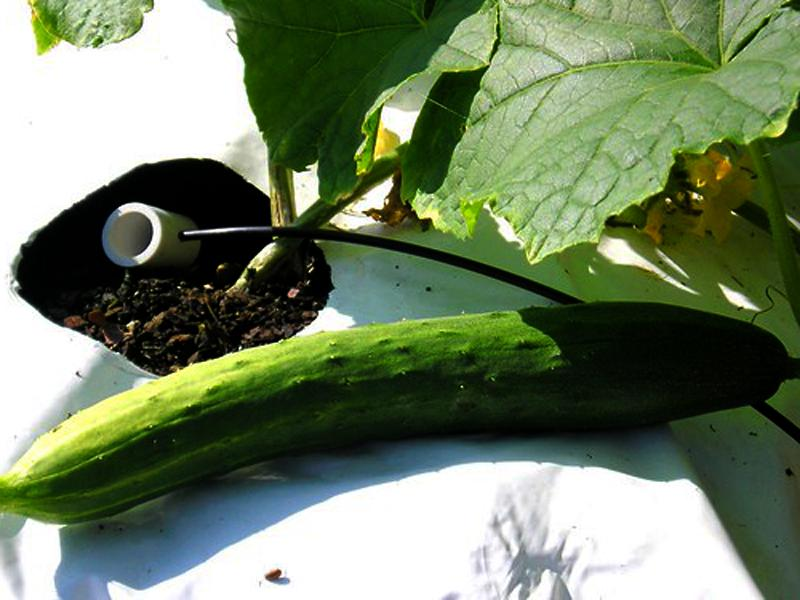Cucumber: (1, 302, 796, 523)
